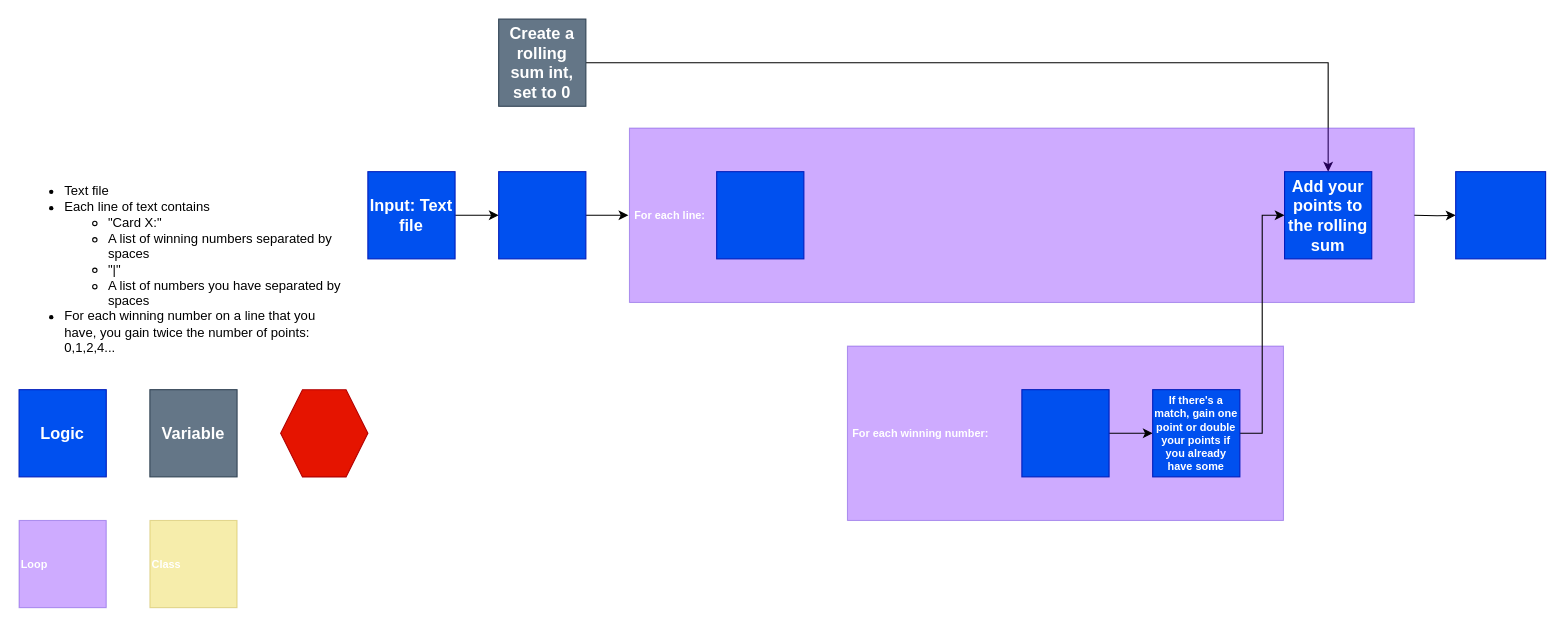
The diagram is 1565 pixels wide and 627 high, and some of its shapes have lost their labels. The shapes that lost their labels are listed below. From the top down, each one's centre as x and y in pixels, then its label:
the point at 542,215: Read file
the point at 760,215: Separate out winning numbers and number you have
the point at 1500,215: Print rolling sum
the point at 324,433: Note
the point at 1065,433: Check the list of numbers you have
